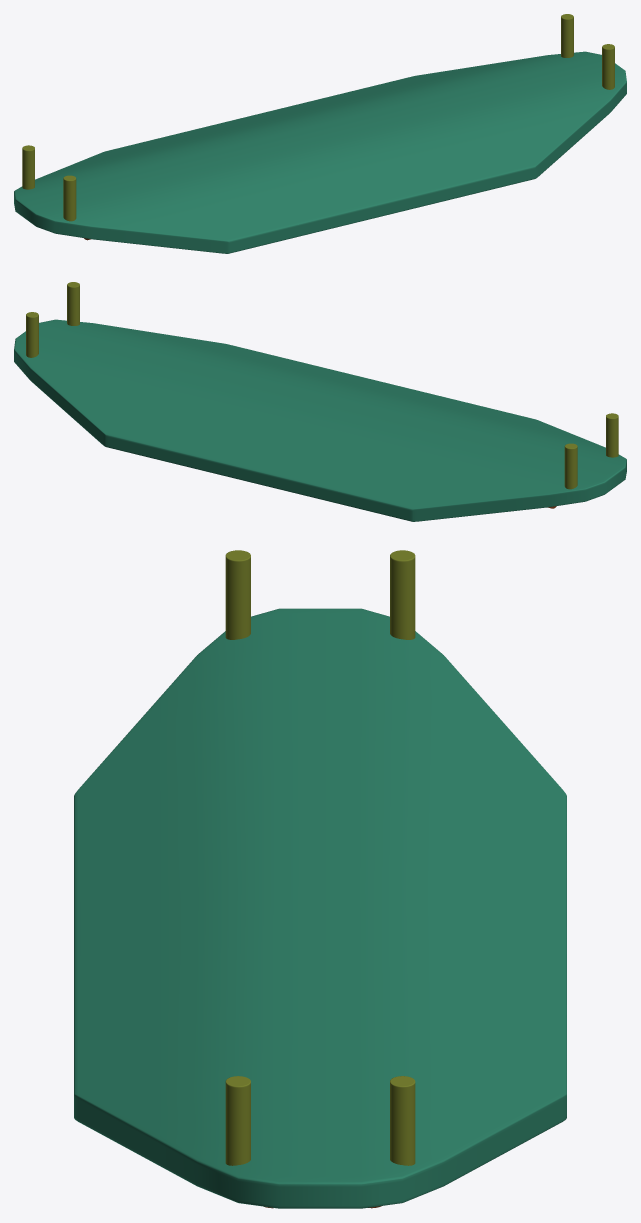
File: Lighting1.fbx
3 views of the same model, one above another, from view 1: azimuth 30°, elevation 25°; view 2: azimuth 150°, elevation 25°; view 3: azimuth 270°, elevation 25° (orthographic). The views are drawn at different scales.
Visible parts, largest first — view 1: Lighting1Main_High, L1P3_High, L1P2_High, L1P4_High, L1P1_High; view 2: Lighting1Main_High, L1P4_High, L1P1_High, L1P3_High, L1P2_High; view 3: Lighting1Main_High, L1P1_High, L1P3_High, L1P4_High, L1P2_High.
Boxes of the visible parts, x1,y1,x2,y2 form: Lighting1Main_High: (14,51,626,253); L1P3_High: (63,175,76,221); L1P2_High: (602,44,614,89); L1P4_High: (22,145,34,189); L1P1_High: (561,14,573,57); Lighting1Main_High: (14,319,626,521); L1P4_High: (564,443,577,489); L1P1_High: (26,312,38,357); L1P3_High: (606,413,618,457); L1P2_High: (67,282,79,325); Lighting1Main_High: (74,608,566,1208); L1P1_High: (390,1076,415,1165); L1P3_High: (225,550,250,639); L1P4_High: (390,550,415,639); L1P2_High: (225,1076,250,1165).
Size of the model in its own units: 4.58 by 0.5534 by 1.66.
